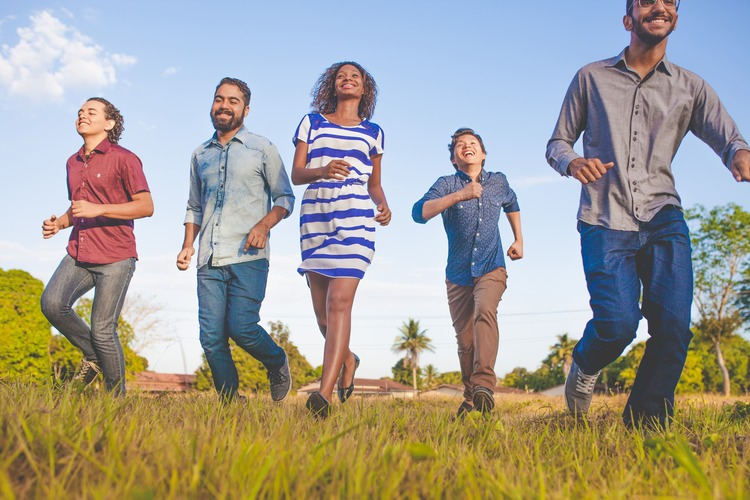without_mask: (632, 1, 675, 37), (211, 87, 243, 128), (75, 104, 104, 137), (337, 62, 361, 97), (456, 135, 482, 165)
